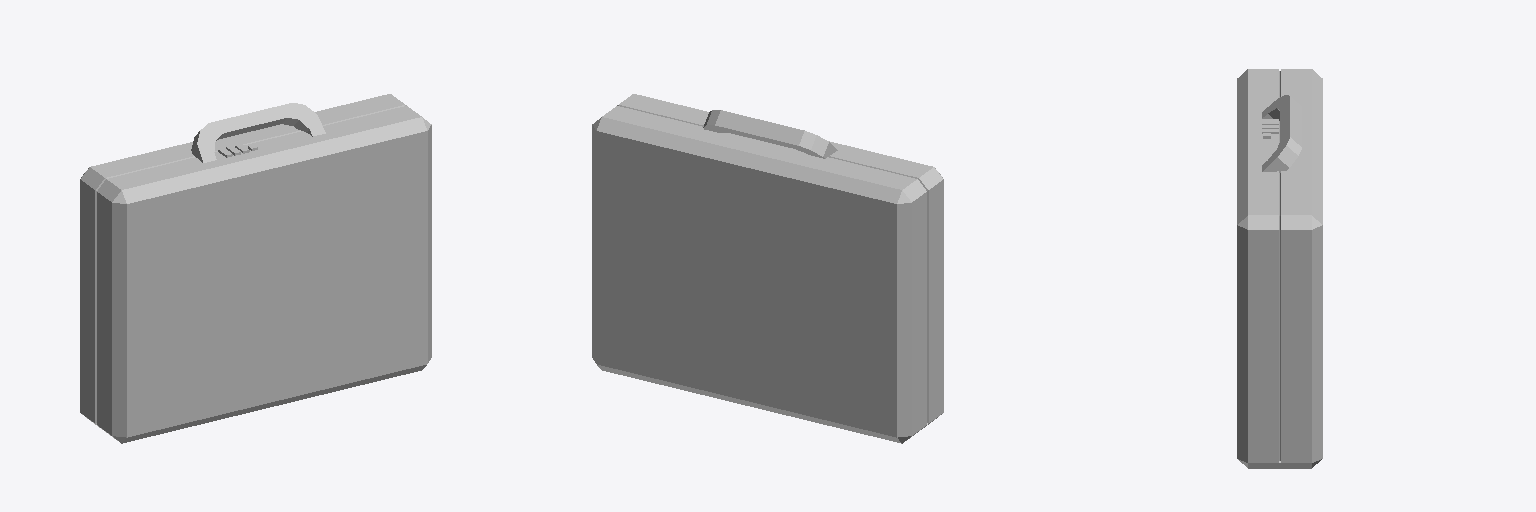
The model's file is Briefcase_1.obj.
3 renders of one model, left to right at view 1: azimuth 30°, elevation 25°; view 2: azimuth 150°, elevation 25°; view 3: azimuth 270°, elevation 25°, orthographic.
Visible parts, largest first — view 1: Briefcase_1; view 2: Briefcase_1; view 3: Briefcase_1.
Boxes of the visible parts, <box> form: Briefcase_1: <box>80,94,431,443</box>; Briefcase_1: <box>592,94,943,443</box>; Briefcase_1: <box>1237,69,1322,468</box>.
Bounding box in the file's own units: 0.7299 × 0.6085 × 0.1687.